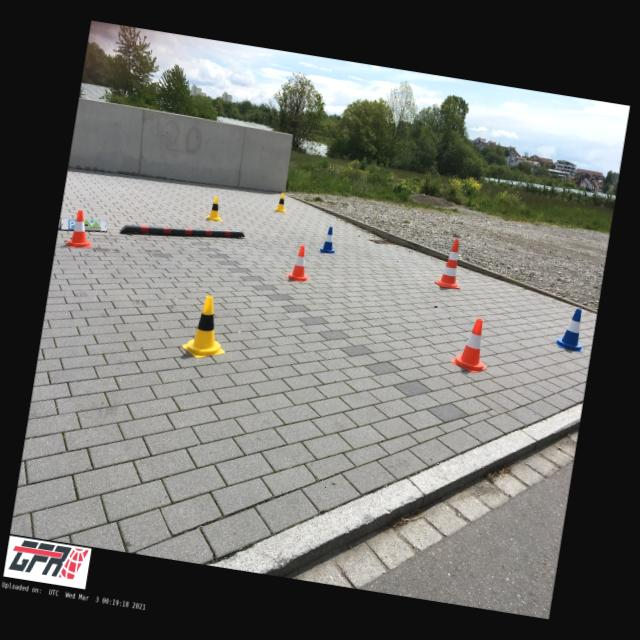blue_cone: (553, 305, 590, 353), (319, 226, 339, 254)
large_orange_cone: (433, 236, 468, 290)
orange_cone: (449, 315, 495, 375), (64, 208, 98, 250), (285, 244, 315, 284)
yellow_cone: (180, 293, 233, 362), (206, 195, 226, 223), (274, 192, 290, 214)
